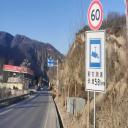speed_limit_60: (88, 0, 103, 30)
